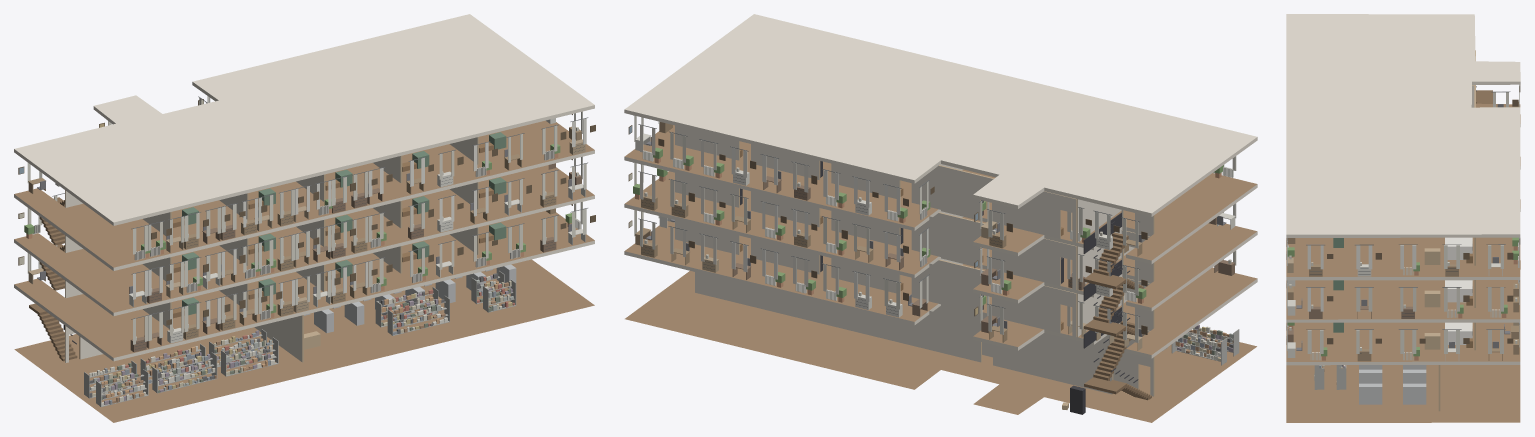
Rendered from interior.glb.
The picture shows the model from 3 angles, left to right: view 1: azimuth 30°, elevation 25°; view 2: azimuth 150°, elevation 25°; view 3: azimuth 270°, elevation 25°; orthographic projection. The views are drawn at different scales.
Parts seen in each view (by area): view 1: slabs, int-window-dressing, shop-displays.001, partitions, coarse-s0, stair, coarse-s1, coarse-s2, coarse-s3; view 2: slabs, partitions, int-window-dressing, stair, shop-displays.001; view 3: slabs, int-window-dressing, coarse-s0, coarse-s2, coarse-s3, coarse-s1, shop-displays.001, partitions, stair.
Part boxes in pixels (bbox=[...]): slabs: bbox=[14, 14, 594, 422]; int-window-dressing: bbox=[18, 96, 595, 352]; shop-displays.001: bbox=[84, 271, 516, 407]; partitions: bbox=[65, 137, 478, 362]; coarse-s0: bbox=[63, 264, 516, 349]; stair: bbox=[29, 197, 77, 361]; coarse-s1: bbox=[173, 222, 506, 318]; coarse-s2: bbox=[173, 177, 506, 272]; coarse-s3: bbox=[173, 132, 506, 227]; slabs: bbox=[624, 14, 1257, 422]; partitions: bbox=[675, 125, 1154, 396]; int-window-dressing: bbox=[628, 115, 1236, 350]; stair: bbox=[1083, 212, 1151, 400]; shop-displays.001: bbox=[1163, 324, 1239, 365]; slabs: bbox=[1286, 14, 1520, 422]; int-window-dressing: bbox=[1286, 84, 1520, 361]; coarse-s0: bbox=[1359, 365, 1426, 404]; coarse-s2: bbox=[1333, 280, 1472, 307]; coarse-s3: bbox=[1333, 237, 1472, 264]; coarse-s1: bbox=[1333, 322, 1472, 349]; shop-displays.001: bbox=[1314, 365, 1346, 389]; partitions: bbox=[1438, 50, 1475, 411]; stair: bbox=[1476, 86, 1492, 103].
Size of the model in its own units: 38.05 by 15.13 by 17.04.
